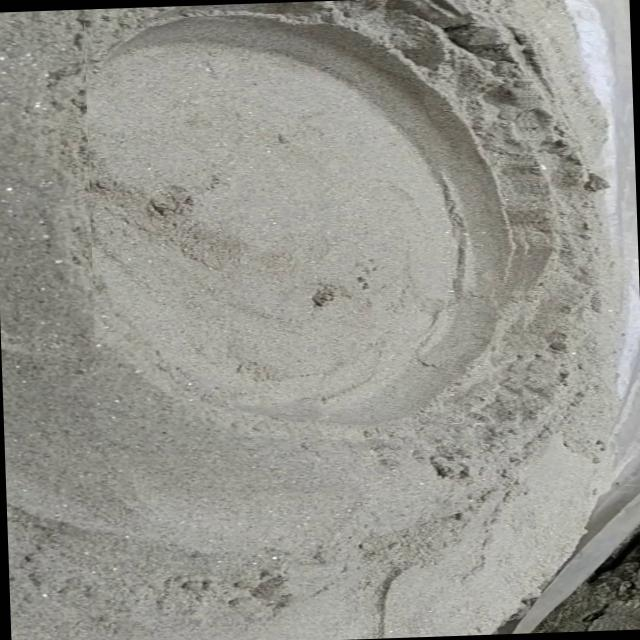C40: (86, 12, 528, 425)
